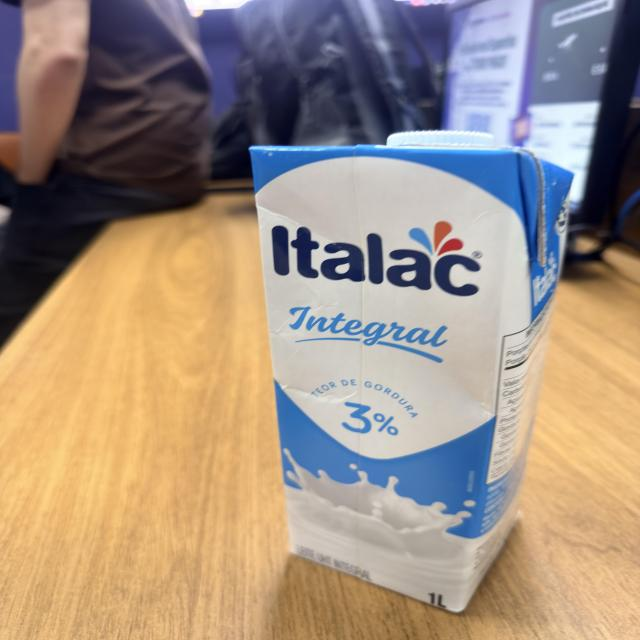Caixa de Leite: (251, 130, 574, 612)
